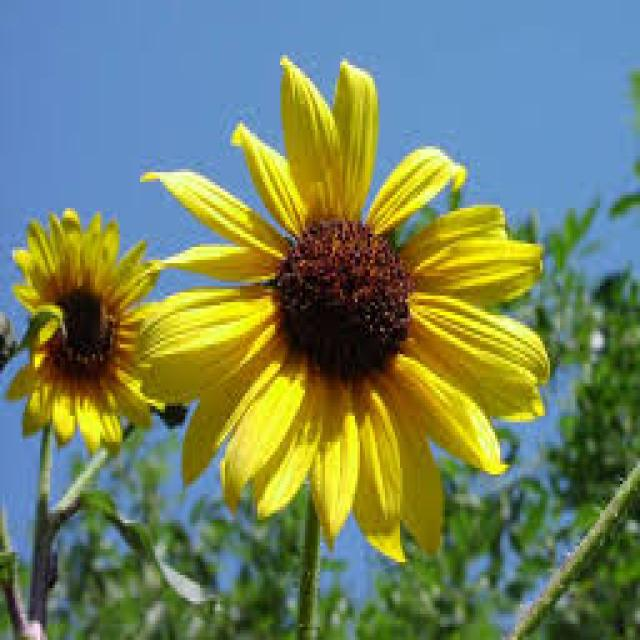sunflower: (136, 51, 564, 570), (5, 192, 180, 469)
